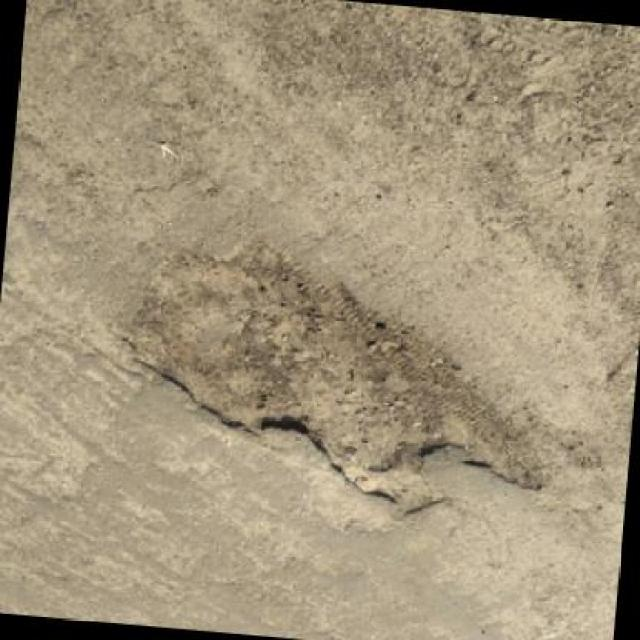pothole1: (96, 215, 569, 536)
